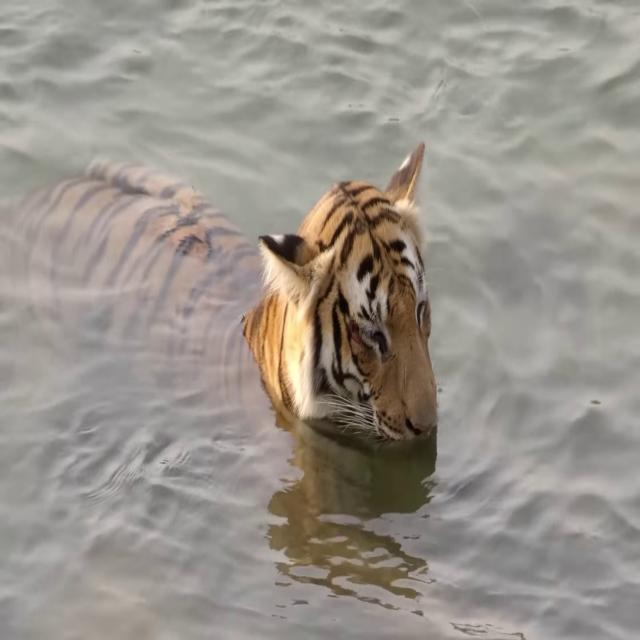tiger: (0, 136, 438, 445)
